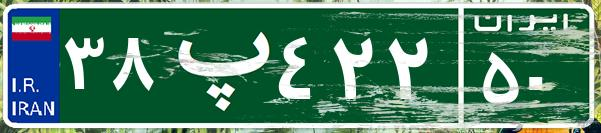0: (525, 38, 570, 115)
2: (385, 28, 445, 110), (330, 28, 385, 110)
3: (57, 26, 110, 107)
4: (273, 28, 330, 110)
5: (475, 38, 525, 113)
8: (110, 28, 158, 105)
پ: (158, 15, 273, 115)
